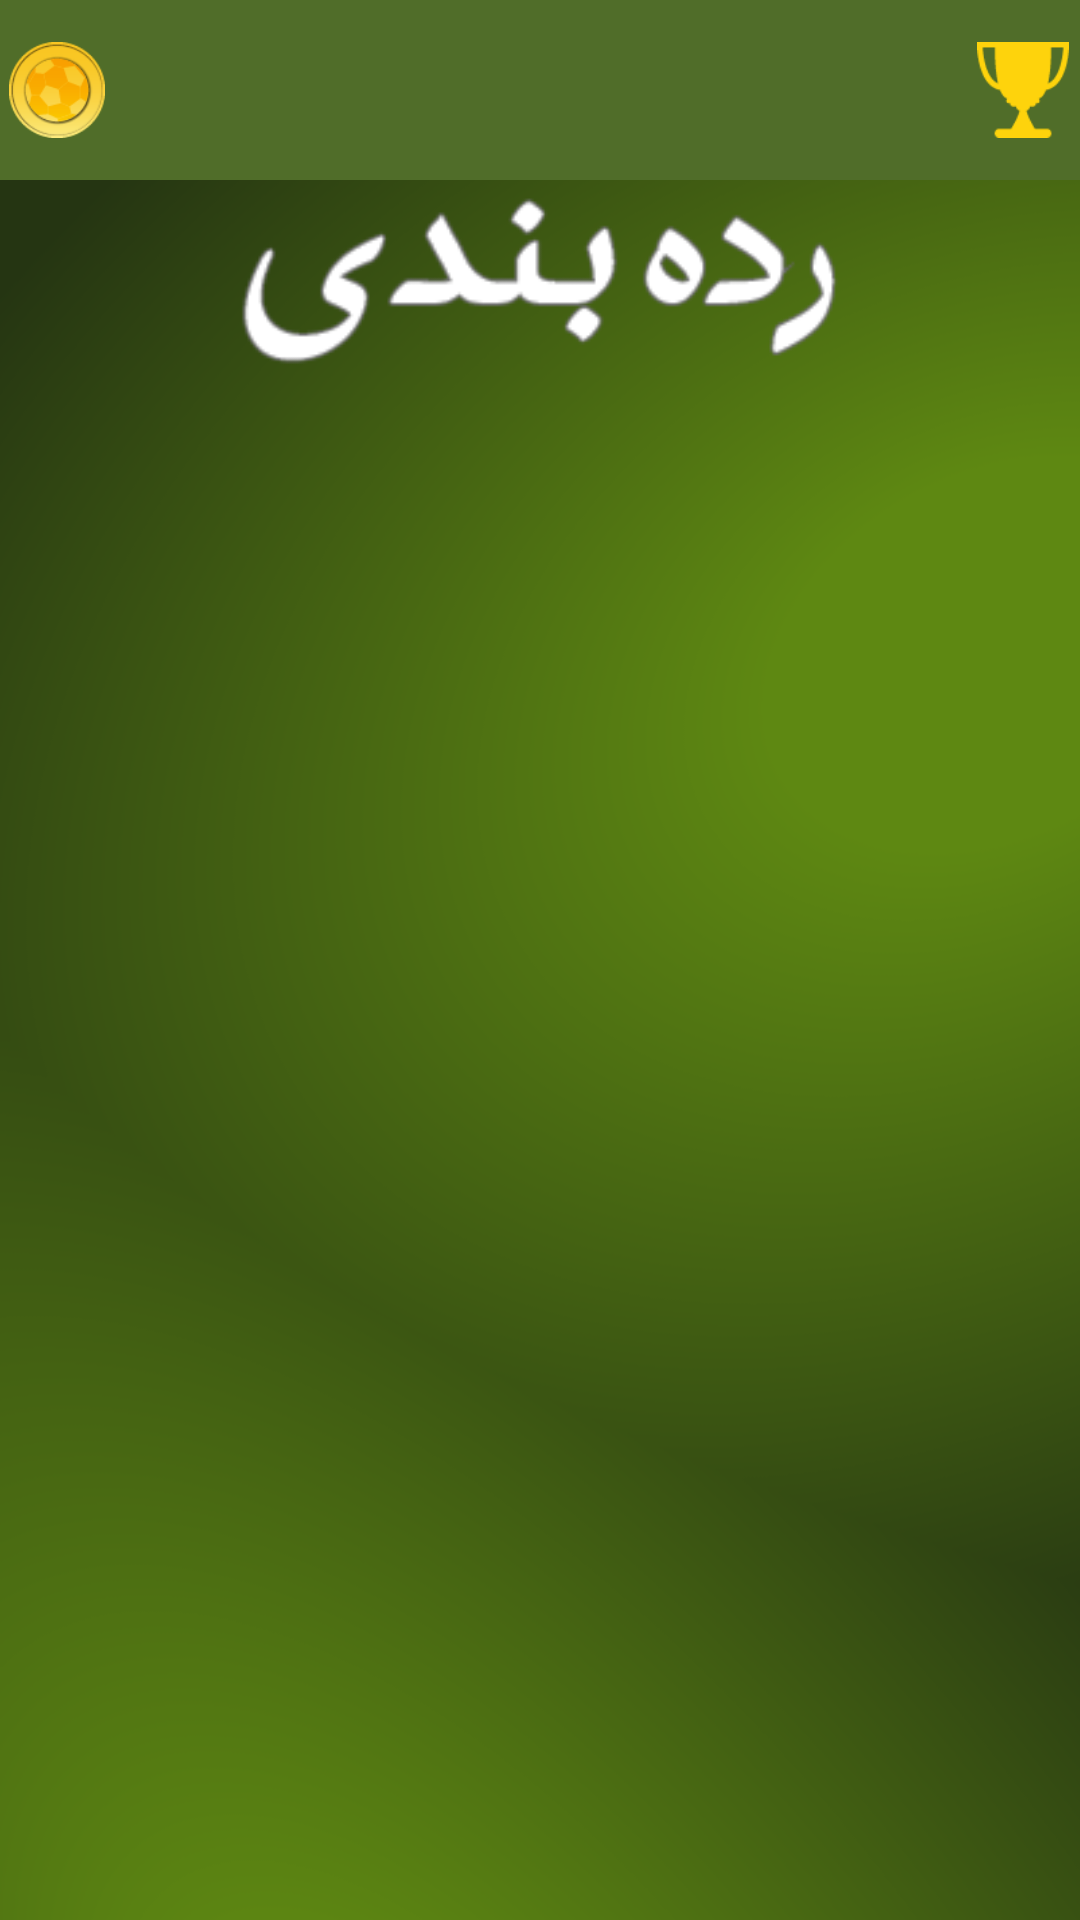

Named icons in this screenshot (1080x1920) and their centers, [x,y]:
coin: [57,90]
